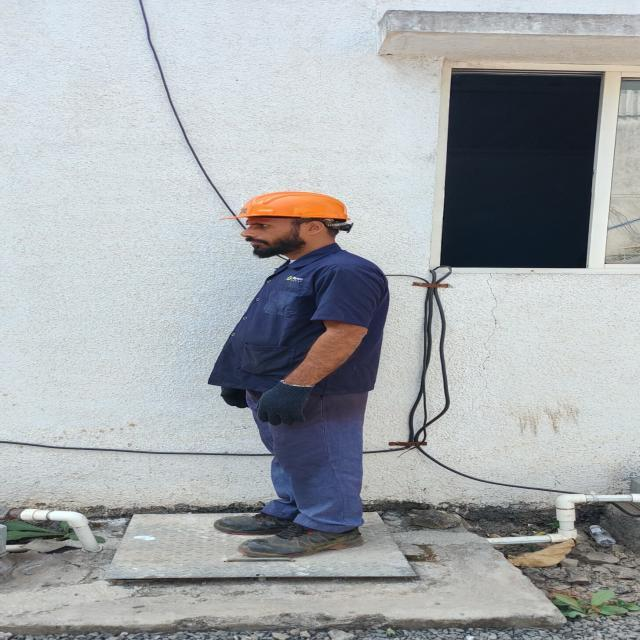Gloves: (253, 380, 317, 428)
